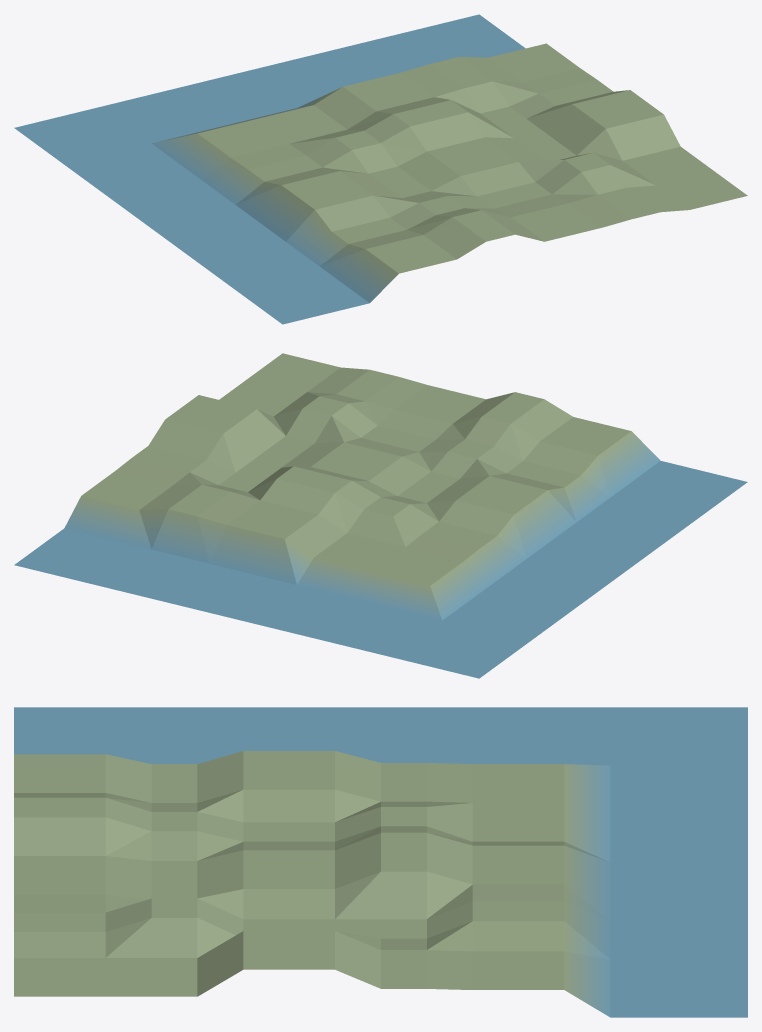
The picture shows the model from 3 angles, top to bottom: view 1: azimuth 30°, elevation 25°; view 2: azimuth 150°, elevation 25°; view 3: azimuth 270°, elevation 25°; orthographic projection. The views are drawn at different scales.
Bounding box in the file's own units: 32 × 2.36 × 32.
